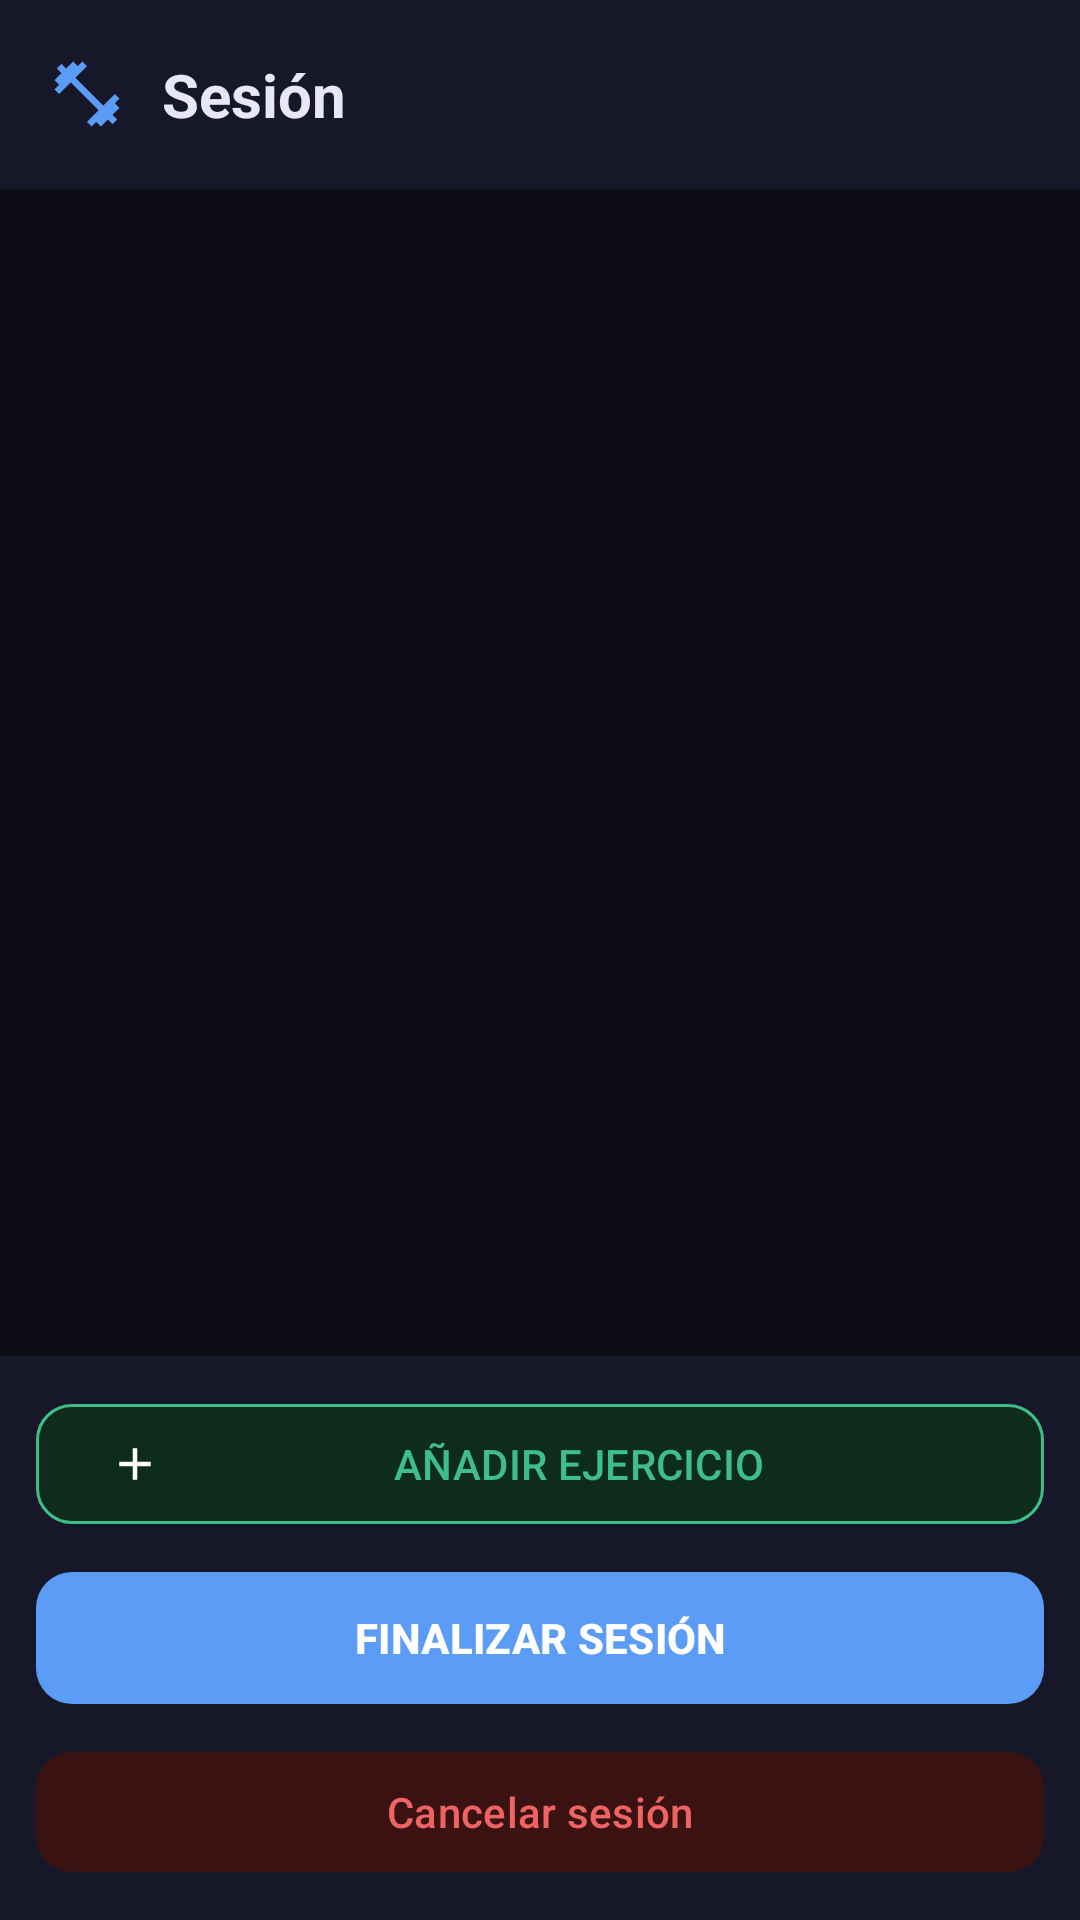

Icons on this 1080px×1920px Android screen, each with its box as (x1, y1, x2, y2):
fitness center: (54, 61, 120, 127)
